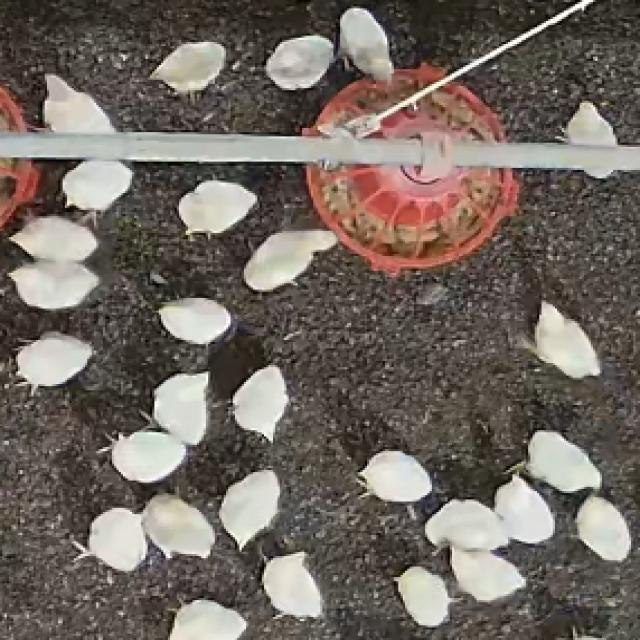broiler: (521, 300, 597, 378), (244, 229, 336, 290), (141, 493, 215, 556), (219, 470, 277, 548), (524, 430, 595, 491), (177, 180, 255, 235), (16, 332, 92, 388), (425, 499, 506, 550), (9, 260, 98, 306), (233, 365, 286, 441), (152, 371, 206, 445), (47, 73, 116, 130), (495, 474, 553, 541), (110, 430, 186, 481), (150, 42, 224, 94), (9, 216, 96, 260), (262, 552, 320, 617), (450, 548, 524, 598), (358, 451, 430, 502), (87, 508, 145, 571), (264, 36, 333, 88), (338, 8, 387, 80), (575, 495, 629, 560), (63, 162, 132, 212), (394, 567, 452, 625), (157, 298, 230, 344), (168, 600, 244, 638), (562, 101, 615, 145), (584, 168, 611, 176)
pipe: (0, 132, 432, 164), (450, 141, 638, 168)
rice: (304, 82, 519, 273), (302, 63, 443, 136)
